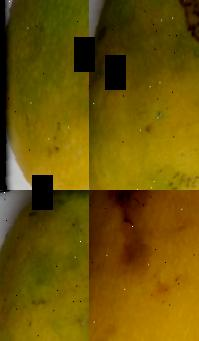PartiallyRipe: (89, 0, 199, 190), (0, 0, 89, 190), (0, 190, 89, 341)
Ripe: (89, 190, 199, 341)
